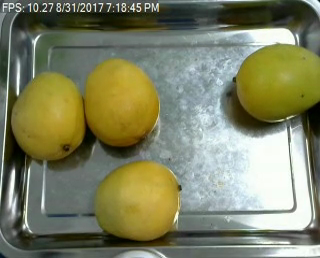Mango: (94, 161, 182, 241), (235, 43, 320, 123), (9, 69, 85, 158), (86, 58, 158, 145)
